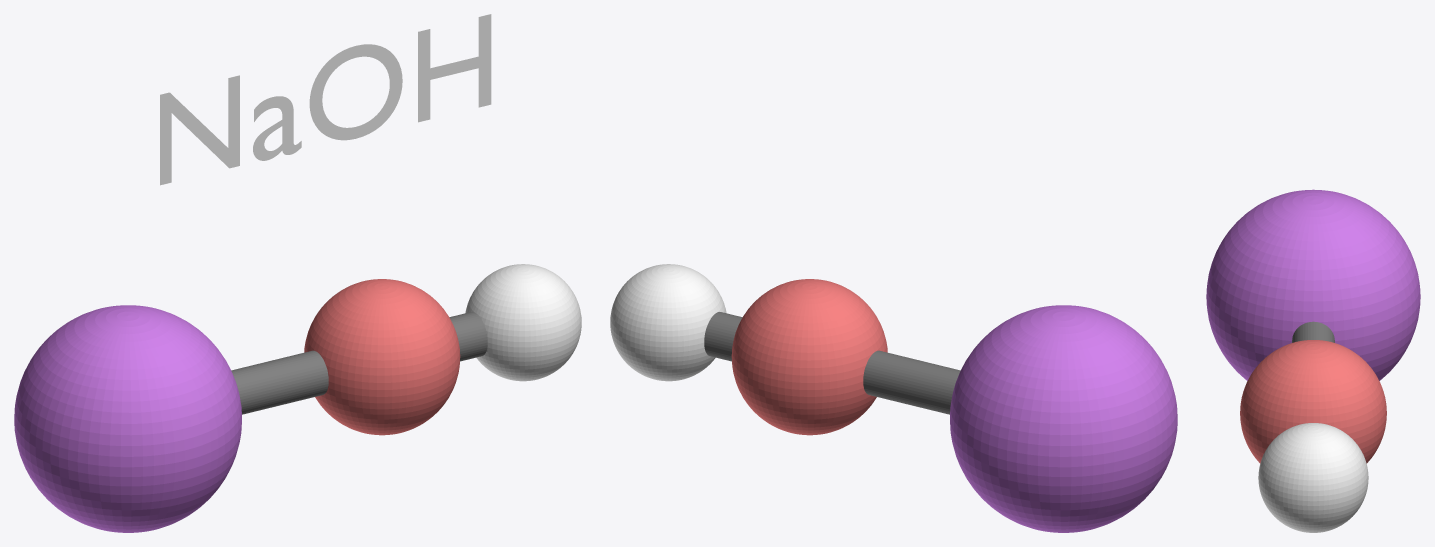
Rendered from NaOH.glb.
The picture shows the model from 3 angles, left to right: view 1: azimuth 30°, elevation 25°; view 2: azimuth 150°, elevation 25°; view 3: azimuth 270°, elevation 25°; orthographic projection. The views are drawn at different scales.
Parts seen in each view (by area): view 1: Na, O, Label, H, Bond_Na_O, Bond_O_H; view 2: Na, O, H, Bond_Na_O, Bond_O_H; view 3: Na, O, H, Bond_Na_O.
Part boxes in pixels (left/top/right/bottom): Na: left=14, top=305, right=241, bottom=532; O: left=304, top=279, right=460, bottom=435; Label: left=160, top=14, right=491, bottom=185; H: left=465, top=264, right=581, bottom=381; Bond_Na_O: left=231, top=350, right=328, bottom=414; Bond_O_H: left=449, top=312, right=487, bottom=361; Na: left=950, top=305, right=1177, bottom=532; O: left=731, top=279, right=887, bottom=435; H: left=610, top=264, right=726, bottom=381; Bond_Na_O: left=863, top=350, right=960, bottom=414; Bond_O_H: left=704, top=312, right=742, bottom=361; Na: left=1206, top=189, right=1420, bottom=380; O: left=1240, top=340, right=1386, bottom=463; H: left=1258, top=423, right=1368, bottom=532; Bond_Na_O: left=1292, top=321, right=1334, bottom=342.
Size of the model in its own units: 1.93 by 1.43 by 0.7.
